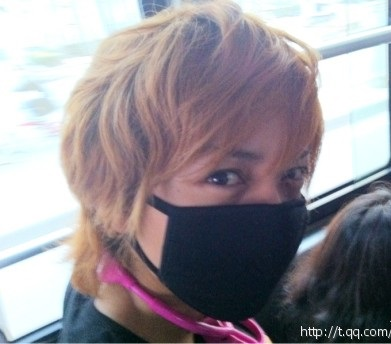face_mask: (132, 79, 312, 302)
